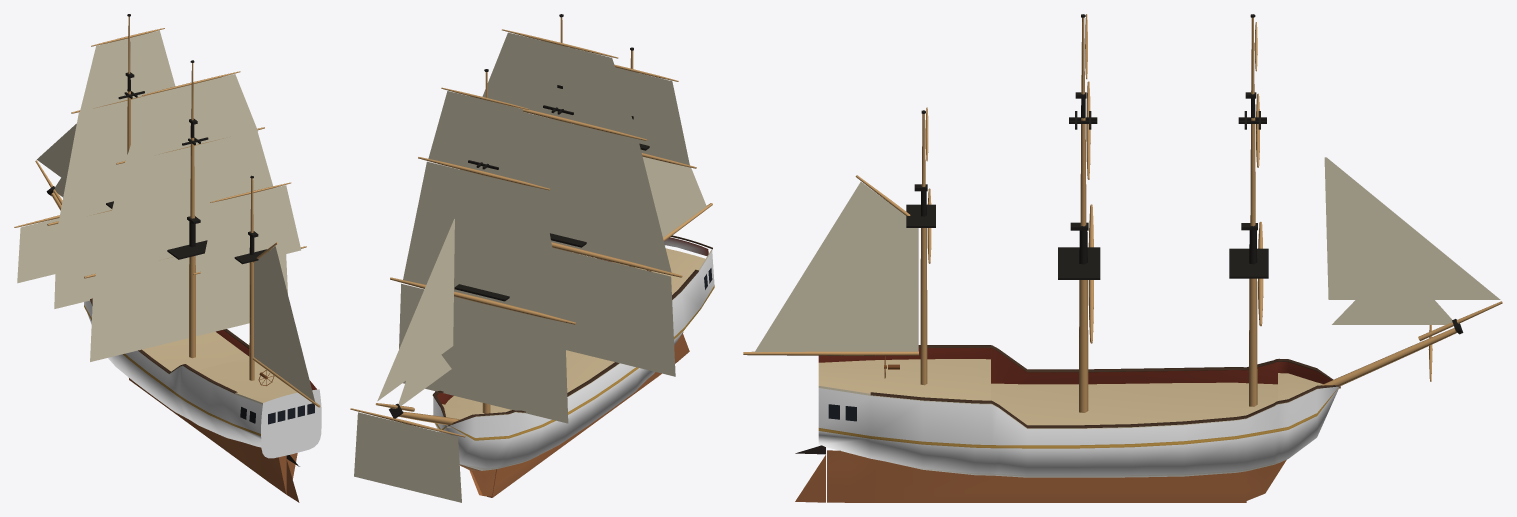
File: tall-ship.far.glb
3 views of the same model, side by side, from view 1: azimuth 30°, elevation 25°; view 2: azimuth 150°, elevation 25°; view 3: azimuth 270°, elevation 25° (orthographic). The views are drawn at different scales.
Parts seen in each view (by area): view 1: hull, main-topsail, main-course, main-topgallant, fore-topsail, mizzen-topsail, sail, fore-topgallant, fore-course, mainmast, spritsail, daggerboard (+5 smaller); view 2: fore-topsail, hull, main-topsail, fore-course, main-course, main-topgallant, spritsail, fore-topgallant, headsail-jib, mizzen-topsail, sail, daggerboard (+8 smaller); view 3: hull, sail, daggerboard, headsail-jib, mainmast, headsail-staysail, foremast, deadwood, mast, rudder, boom.
Boxes of the visible parts, bbox=[...] form: hull: bbox=[14, 160, 321, 458]; main-topsail: bbox=[95, 132, 272, 277]; main-course: bbox=[90, 253, 287, 361]; main-topgallant: bbox=[124, 74, 257, 164]; fore-topsail: bbox=[58, 97, 146, 225]; mizzen-topsail: bbox=[200, 185, 300, 274]; sail: bbox=[254, 246, 314, 401]; fore-topgallant: bbox=[79, 30, 175, 113]; fore-course: bbox=[54, 212, 110, 308]; mainmast: bbox=[167, 60, 208, 358]; spritsail: bbox=[17, 218, 59, 283]; daggerboard: bbox=[129, 378, 269, 482]; fore-topsail: bbox=[403, 161, 565, 319]; hull: bbox=[350, 235, 714, 470]; main-topsail: bbox=[462, 112, 671, 272]; fore-course: bbox=[399, 283, 568, 423]; main-course: bbox=[504, 247, 675, 376]; main-topgallant: bbox=[482, 32, 638, 136]; spritsail: bbox=[354, 412, 461, 502]; fore-topgallant: bbox=[428, 91, 541, 186]; headsail-jib: bbox=[377, 219, 454, 401]; mizzen-topsail: bbox=[588, 67, 689, 165]; sail: bbox=[642, 157, 706, 237]; daggerboard: bbox=[487, 372, 658, 497]; hull: bbox=[818, 301, 1502, 477]; sail: bbox=[755, 182, 918, 352]; daggerboard: bbox=[870, 459, 1246, 502]; headsail-jib: bbox=[1324, 157, 1500, 299]; mainmast: bbox=[1058, 14, 1100, 412]; headsail-staysail: bbox=[1332, 258, 1452, 324]; foremast: bbox=[1229, 14, 1268, 406]; deadwood: bbox=[827, 450, 1286, 502]; mast: bbox=[906, 110, 935, 385]; rudder: bbox=[795, 445, 825, 502]; boom: bbox=[743, 351, 918, 355].
Size of the model in its own units: 20.67 by 34.22 by 48.44.
